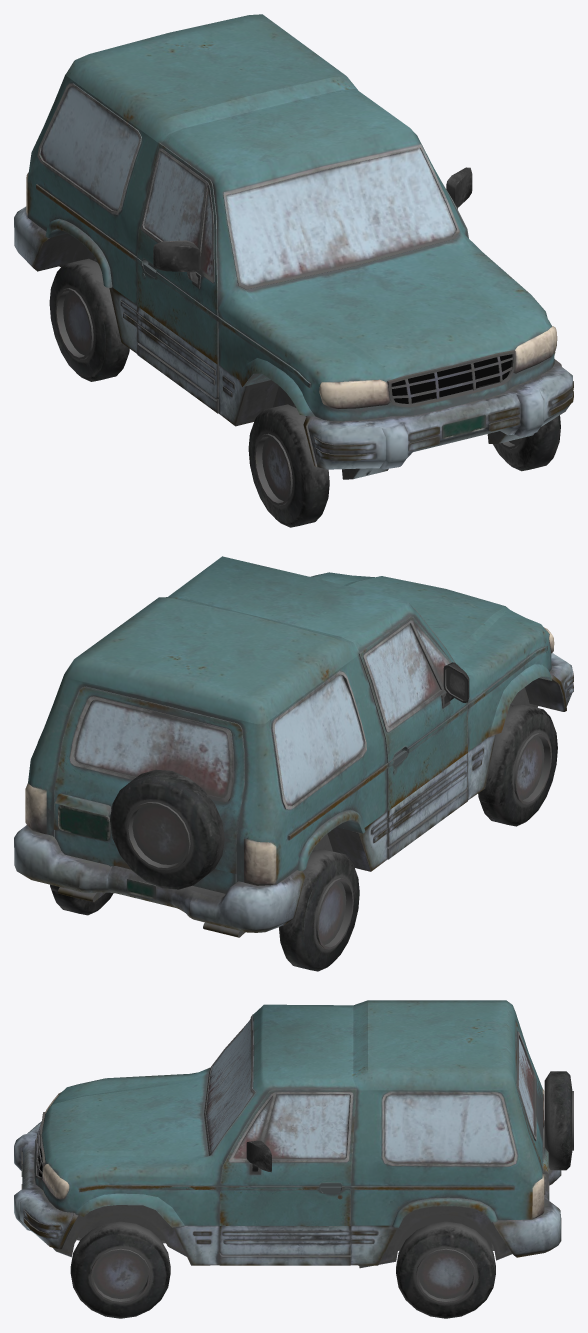
The model's file is car.glb.
3 views of the same model, one above another, from view 1: azimuth 30°, elevation 25°; view 2: azimuth 150°, elevation 25°; view 3: azimuth 270°, elevation 25° (orthographic). The views are drawn at different scales.
Visible parts, largest first — view 1: Plane.007; view 2: Plane.007; view 3: Plane.007.
Boxes of the visible parts, box(x1,y1,x2,y2) form: Plane.007: box(14, 14, 573, 527); Plane.007: box(14, 556, 573, 971); Plane.007: box(14, 1000, 573, 1318).
Size of the model in its own units: 512 by 443 by 956.
1 material, 1 textured.
